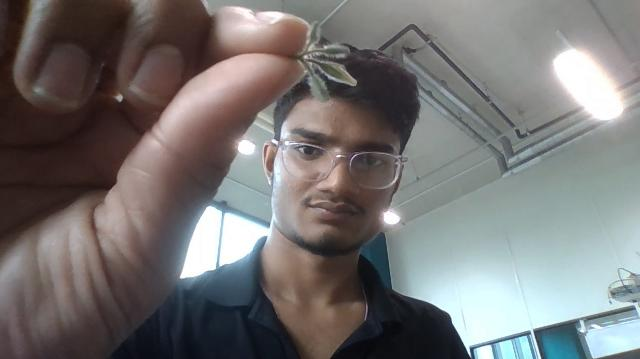Flower Bud: (304, 56, 359, 87), (307, 69, 331, 101), (303, 20, 323, 51), (308, 44, 352, 57)
